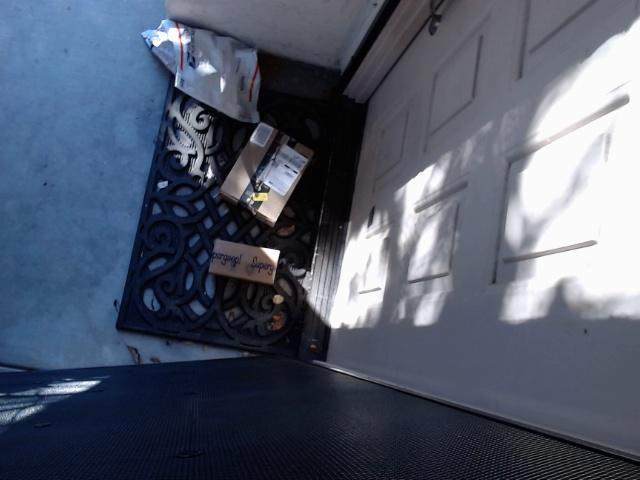box: (220, 121, 315, 228), (208, 238, 281, 286)
plastic_bag: (140, 19, 260, 121)
